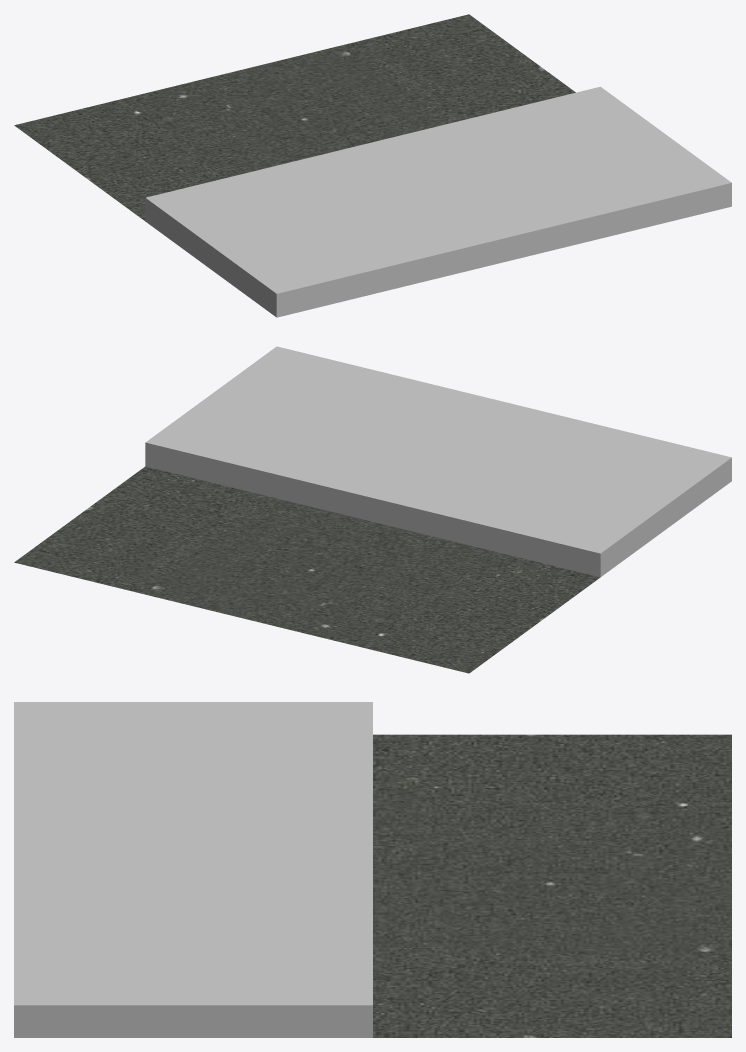
The model's file is roadAsphalt_side.fbx.
3 renders of one model, top to bottom at view 1: azimuth 30°, elevation 25°; view 2: azimuth 150°, elevation 25°; view 3: azimuth 270°, elevation 25°, orthographic. The views are drawn at different scales.
Visible parts, largest first — view 1: roadAsphalt_side; view 2: roadAsphalt_side; view 3: roadAsphalt_side.
Boxes of the visible parts, x1,y1,x2,y2 form: roadAsphalt_side: (14, 14, 731, 317); roadAsphalt_side: (14, 346, 731, 673); roadAsphalt_side: (14, 702, 731, 1037).
Size of the model in its own units: 10 by 0.5 by 10.
